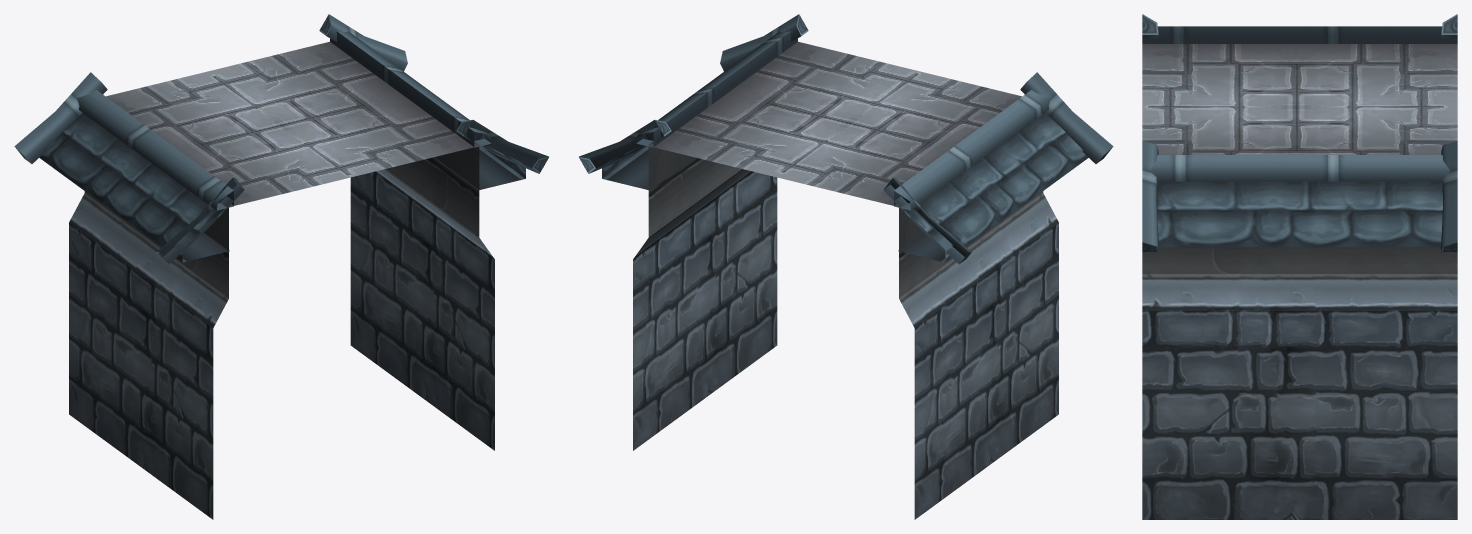
Rendered from castle_wall_straight_04.fbx.
3 views of the same model, side by side, from view 1: azimuth 30°, elevation 25°; view 2: azimuth 150°, elevation 25°; view 3: azimuth 270°, elevation 25° (orthographic). The views are drawn at different scales.
Visible parts, largest first — view 1: castle_wall_straight_04; view 2: castle_wall_straight_04; view 3: castle_wall_straight_04.
Part boxes in pixels (bbox=[...]): castle_wall_straight_04: bbox=[14, 14, 548, 519]; castle_wall_straight_04: bbox=[579, 14, 1113, 519]; castle_wall_straight_04: bbox=[1142, 14, 1457, 519].
Size of the model in its own units: 5.16 by 4.25 by 3.3.
Materials: 1 (1 with a texture image).
